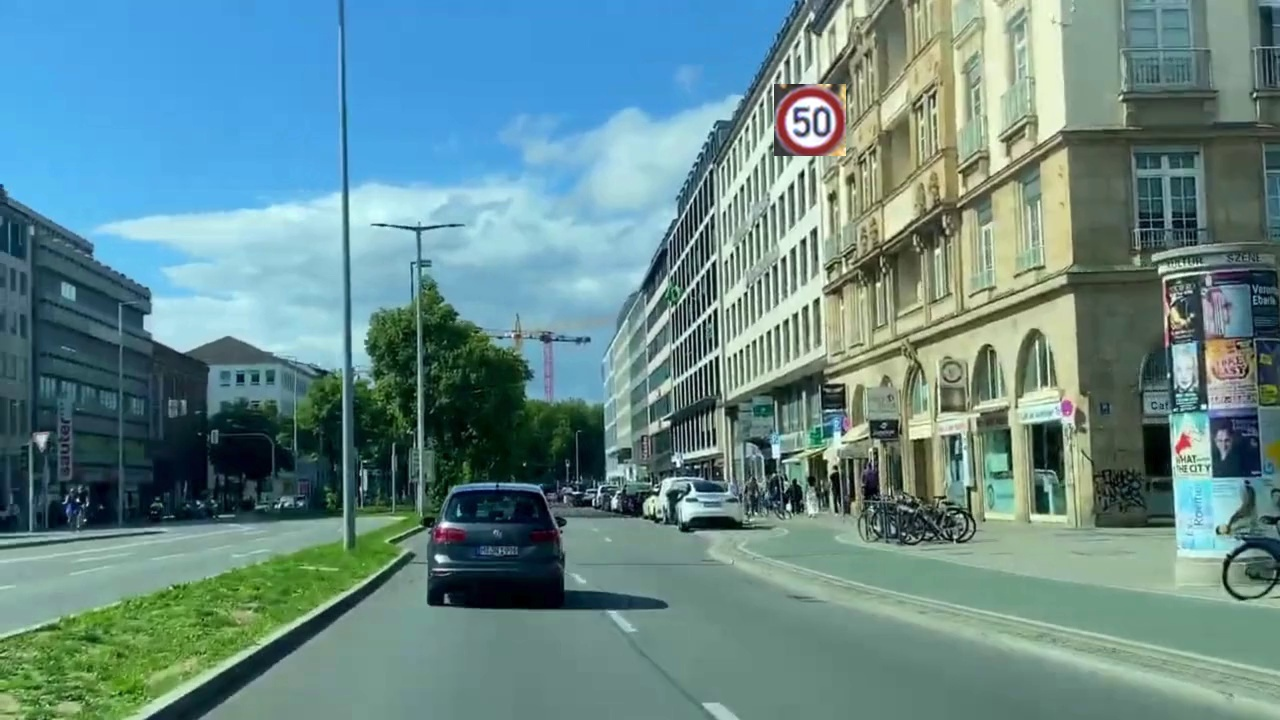Speed 50: (774, 84, 846, 156)
